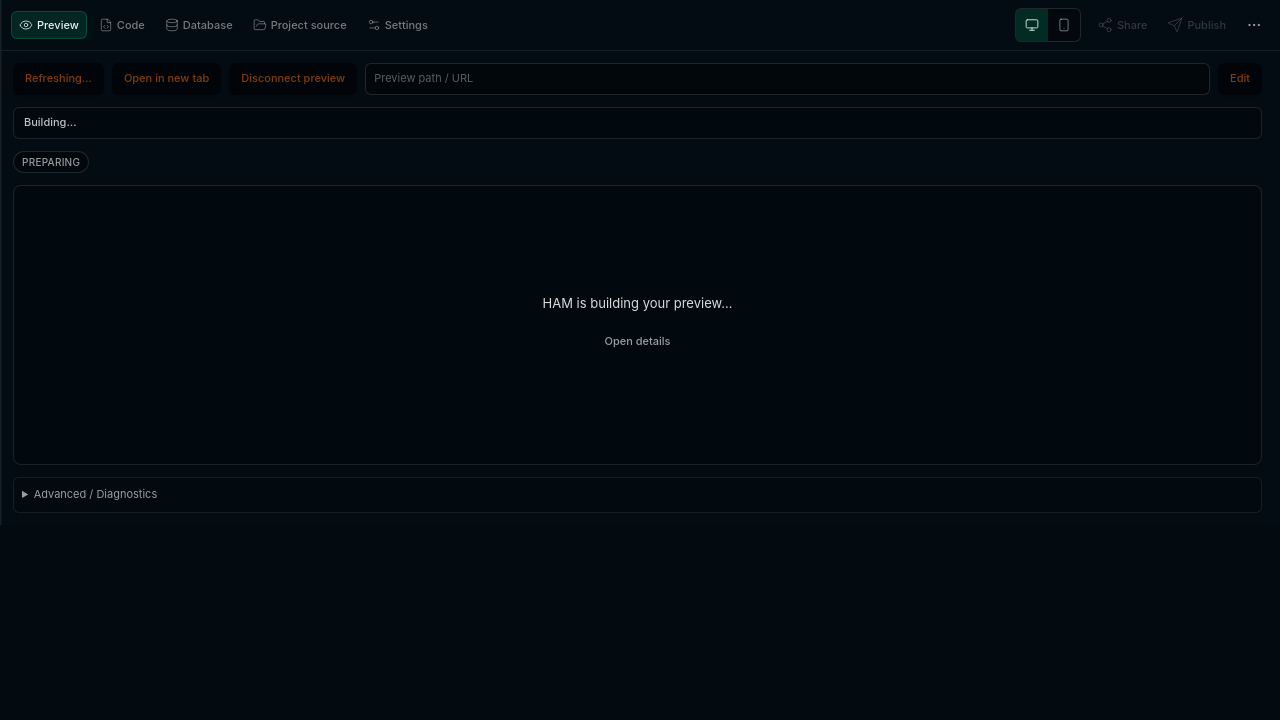
Test: WorkspaceWorkbench › Activity stream updates activity items from live events
Click the heading "Advanced / Diagnostics" at (95, 494), box x1=34 y1=487 x2=157 y2=501
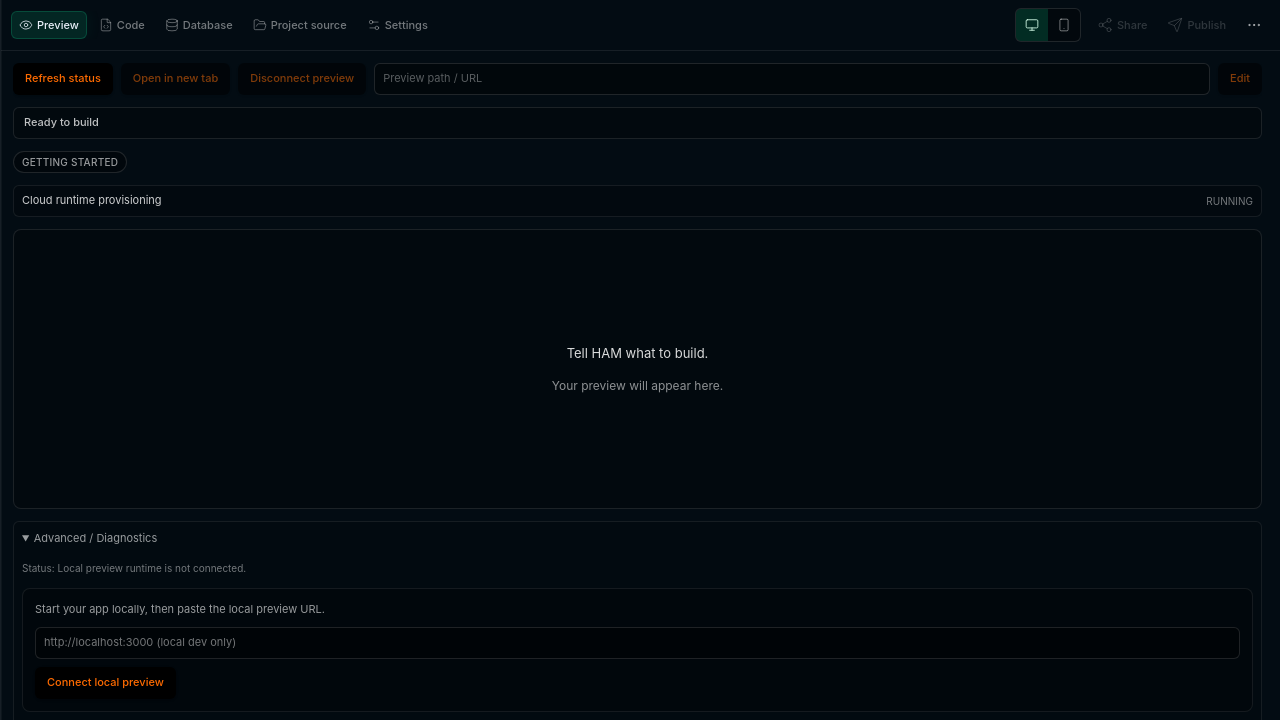
Expected: the text "Cloud runtime provisioning" is shown, x1=22 y1=192 x2=162 y2=210
